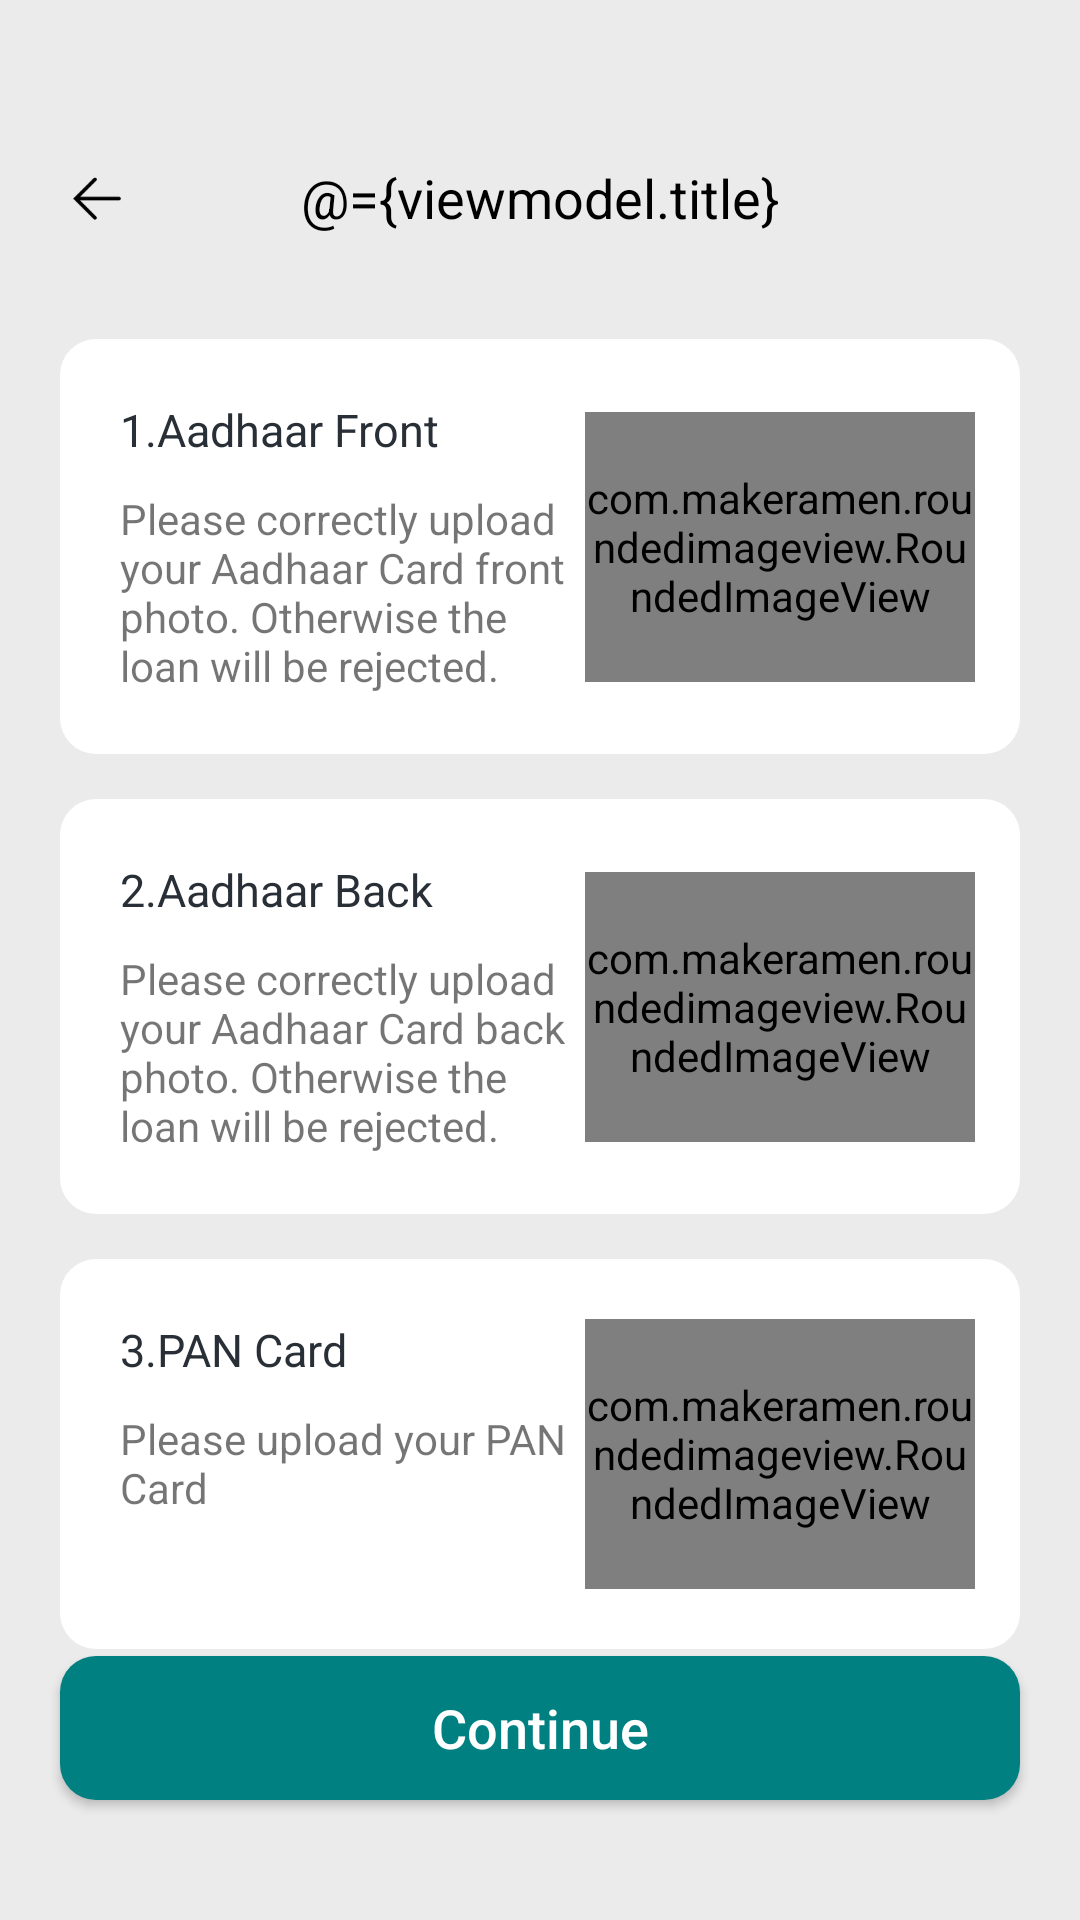

Screen size 1080w x 1920h. Icon name, then its center in pixels as point (x, y):
back: point (97, 198)
